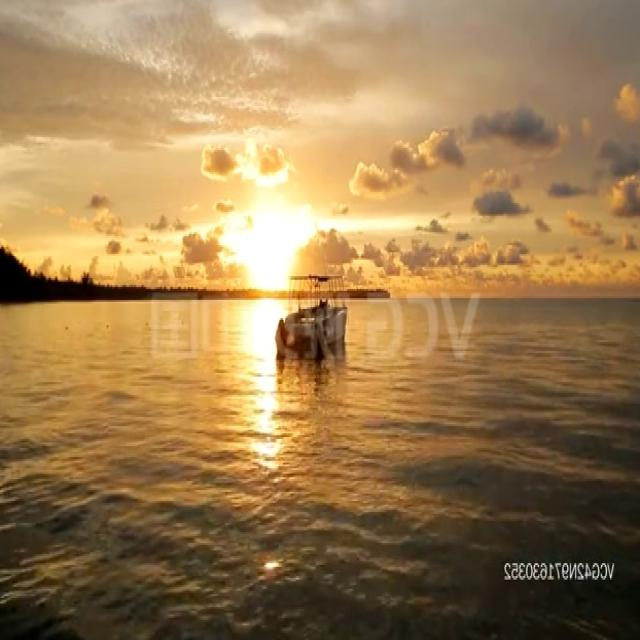houseboat: (280, 265, 350, 360)
